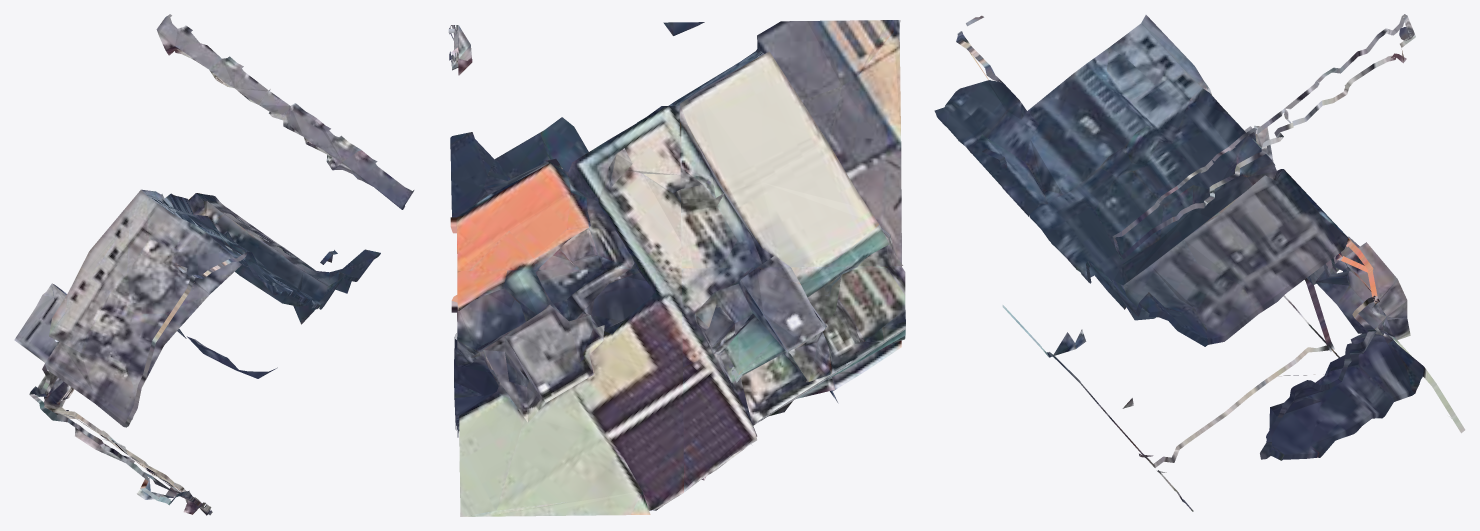
The picture shows the model from 3 angles, left to right: view 1: azimuth 30°, elevation 25°; view 2: azimuth 150°, elevation 25°; view 3: azimuth 270°, elevation 25°; orthographic projection. The views are drawn at different scales.
Size of the model in its own units: 43.23 by 47.86 by 43.74.
Materials: 2 (2 with a texture image).
